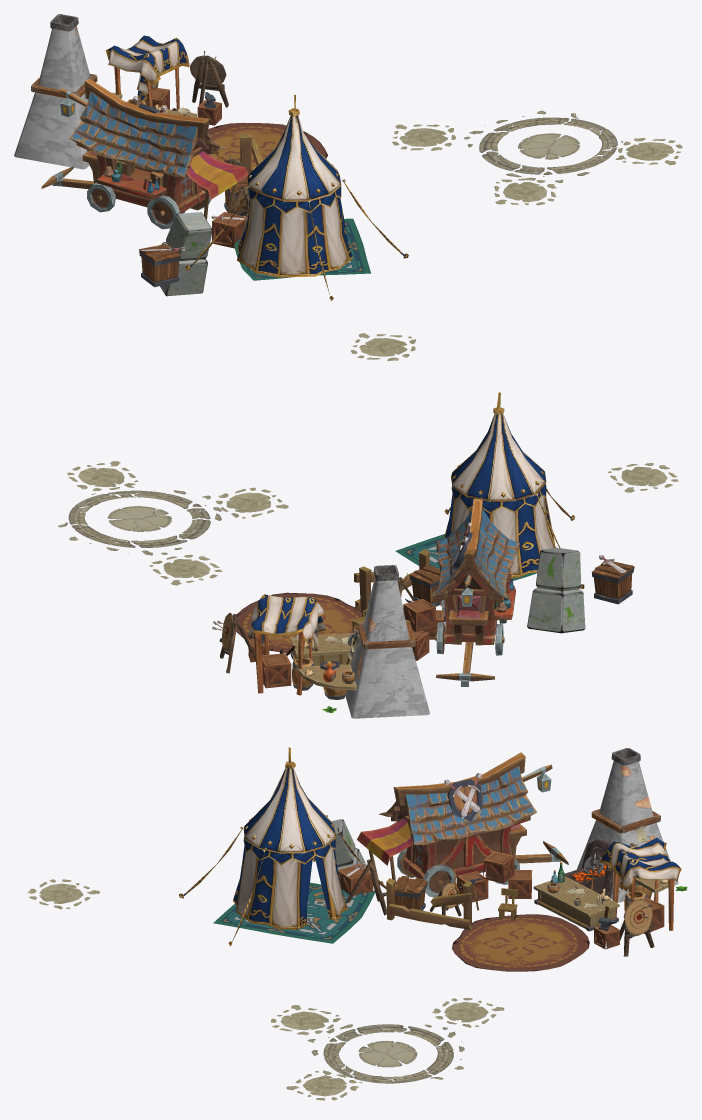
Rendered from MainCityDecor_Smith_Tent.glb.
3 renders of one model, top to bottom at view 1: azimuth 30°, elevation 25°; view 2: azimuth 150°, elevation 25°; view 3: azimuth 270°, elevation 25°, orthographic. The views are drawn at different scales.
Parts seen in each view (by area): view 1: EnvCampsite_Detail__Wagon__un6212924494051791634, EnvCampsite_Detail__Tent___Basics___2__un4817634974863053586, EnvMaincity_Detail__Furnance__u6929352211588263150, EnvMaincity_Detail__BigStoneCircle__un2902147857852781330, EnvCampsite_Detail__Tent___Basics___4__u7700039652342574318, EnvCampsite_Detail__Stele__3_1__un3507777192774587154, EnvCampsite_Detail__Rug__3__u6917051065108147438, EnvCampsite_Detail__Box___2_1__u771448555048414446, EnvCampsite_Detail__Rug__2__un8785256405216449298, EnvMaincity_Detail__StoneCircle_2__un2888940390135157522, EnvMaincity_Detail__StoneCircle_1__un2025869458205823762, EnvMaincity_Detail__StoneCircle_3__u6450926390892768494 (+5 smaller); view 2: EnvCampsite_Detail__Wagon__un6212924494051791634, EnvCampsite_Detail__Tent___Basics___2__un4817634974863053586, EnvMaincity_Detail__Furnance__u6929352211588263150, EnvMaincity_Detail__BigStoneCircle__un2902147857852781330, EnvCampsite_Detail__Stele__3_1__un3507777192774587154, EnvCampsite_Detail__Tent___Basics___4__u7700039652342574318, EnvCampsite_Detail__Rug__3__u6917051065108147438, EnvCampsite_Detail__Box___2_1__u771448555048414446, EnvMaincity_Detail__Table___1__un4560661725372601106, EnvMaincity_Detail__StoneCircle__un802102890468201234, EnvMaincity_Detail__StoneCircle_1__un2025869458205823762, EnvMaincity_Detail__StoneCircle_2__un2888940390135157522 (+7 smaller); view 3: EnvCampsite_Detail__Wagon__un6212924494051791634, EnvCampsite_Detail__Tent___Basics___2__un4817634974863053586, EnvCampsite_Detail__Rug__3__u6917051065108147438, EnvMaincity_Detail__Furnance__u6929352211588263150, EnvMaincity_Detail__BigStoneCircle__un2902147857852781330, EnvCampsite_Detail__Tent___Basics___4__u7700039652342574318, EnvCampsite_Detail__Rug__2__un8785256405216449298, EnvMaincity_Detail__Table___1__un4560661725372601106, EnvCampsite_Detail__Fence__1_1__u6908843887106469102, EnvMaincity_Detail__StoneCircle_1__un2025869458205823762, EnvMaincity_Detail__StoneCircle__un802102890468201234, EnvMaincity_Detail__StoneCircle_2__un2888940390135157522 (+10 smaller).
Boxes of the visible parts, x1,y1,x2,y2 form: EnvCampsite_Detail__Wagon__un6212924494051791634: [41, 78, 248, 229]; EnvCampsite_Detail__Tent___Basics___2__un4817634974863053586: [185, 94, 408, 300]; EnvMaincity_Detail__Furnance__u6929352211588263150: [14, 14, 97, 169]; EnvMaincity_Detail__BigStoneCircle__un2902147857852781330: [464, 110, 631, 182]; EnvCampsite_Detail__Tent___Basics___4__u7700039652342574318: [105, 35, 189, 110]; EnvCampsite_Detail__Stele__3_1__un3507777192774587154: [160, 212, 212, 296]; EnvCampsite_Detail__Rug__3__u6917051065108147438: [208, 122, 327, 167]; EnvCampsite_Detail__Box___2_1__u771448555048414446: [139, 244, 181, 287]; EnvCampsite_Detail__Rug__2__un8785256405216449298: [234, 218, 370, 280]; EnvMaincity_Detail__StoneCircle_2__un2888940390135157522: [392, 124, 455, 150]; EnvMaincity_Detail__StoneCircle_1__un2025869458205823762: [350, 333, 416, 361]; EnvMaincity_Detail__StoneCircle_3__u6450926390892768494: [618, 137, 682, 165]; EnvCampsite_Detail__Wagon__un6212924494051791634: [432, 499, 519, 686]; EnvCampsite_Detail__Tent___Basics___2__un4817634974863053586: [444, 392, 584, 588]; EnvMaincity_Detail__Furnance__u6929352211588263150: [345, 565, 430, 718]; EnvMaincity_Detail__BigStoneCircle__un2902147857852781330: [58, 484, 221, 555]; EnvCampsite_Detail__Stele__3_1__un3507777192774587154: [527, 547, 585, 633]; EnvCampsite_Detail__Tent___Basics___4__u7700039652342574318: [247, 594, 325, 695]; EnvCampsite_Detail__Rug__3__u6917051065108147438: [236, 592, 364, 652]; EnvCampsite_Detail__Box___2_1__u771448555048414446: [591, 560, 634, 604]; EnvMaincity_Detail__Table___1__un4560661725372601106: [290, 633, 354, 666]; EnvMaincity_Detail__StoneCircle__un802102890468201234: [215, 487, 288, 518]; EnvMaincity_Detail__StoneCircle_1__un2025869458205823762: [608, 463, 678, 492]; EnvMaincity_Detail__StoneCircle_2__un2888940390135157522: [149, 554, 222, 585]; EnvCampsite_Detail__Wagon__un6212924494051791634: [357, 752, 568, 897]; EnvCampsite_Detail__Tent___Basics___2__un4817634974863053586: [179, 747, 386, 946]; EnvCampsite_Detail__Rug__3__u6917051065108147438: [452, 914, 589, 971]; EnvMaincity_Detail__Furnance__u6929352211588263150: [564, 748, 678, 902]; EnvMaincity_Detail__BigStoneCircle__un2902147857852781330: [308, 1024, 464, 1083]; EnvCampsite_Detail__Tent___Basics___4__u7700039652342574318: [599, 837, 681, 930]; EnvCampsite_Detail__Rug__2__un8785256405216449298: [213, 882, 374, 943]; EnvMaincity_Detail__Table___1__un4560661725372601106: [533, 876, 619, 931]; EnvCampsite_Detail__Fence__1_1__u6908843887106469102: [386, 878, 472, 929]; EnvMaincity_Detail__StoneCircle_1__un2025869458205823762: [27, 879, 99, 909]; EnvMaincity_Detail__StoneCircle__un802102890468201234: [270, 1005, 340, 1035]; EnvMaincity_Detail__StoneCircle_2__un2888940390135157522: [432, 998, 504, 1027].
Size of the model in its own units: 19.57 by 6.62 by 20.87.
26 materials, 26 textured.
